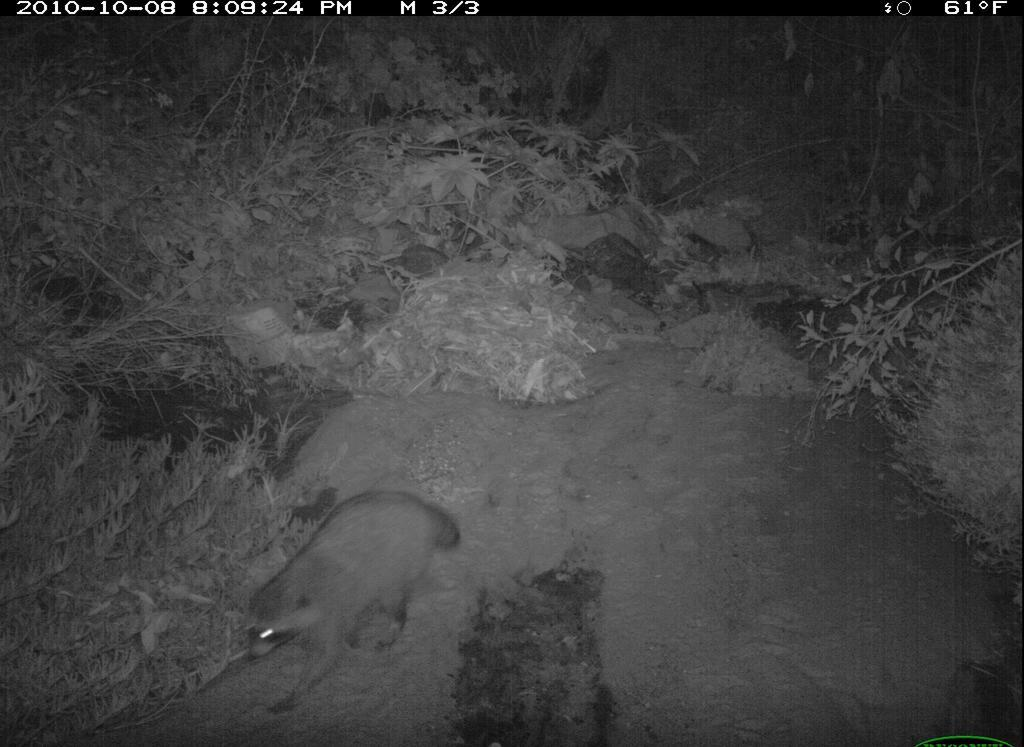raccoon: (246, 483, 464, 725)
